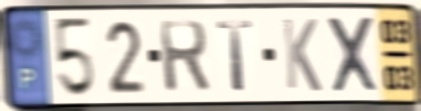2: (103, 18, 149, 96)
5: (50, 15, 99, 100)
K: (280, 15, 324, 95)
R: (156, 17, 212, 95)
T: (214, 17, 257, 94)
X: (324, 13, 382, 96)
